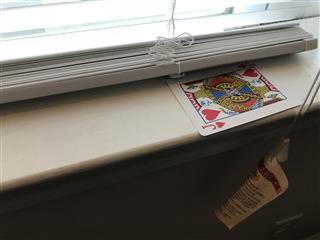JackOfHearts: (166, 59, 302, 135)
